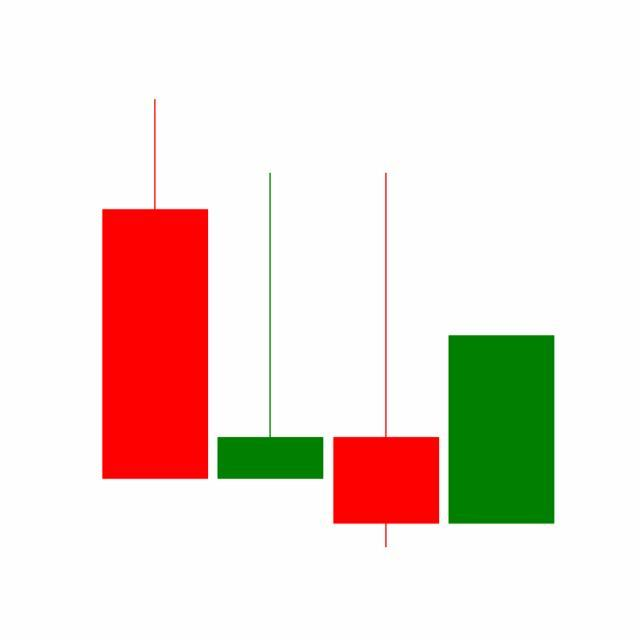Marubozu: (444, 333, 560, 526)
